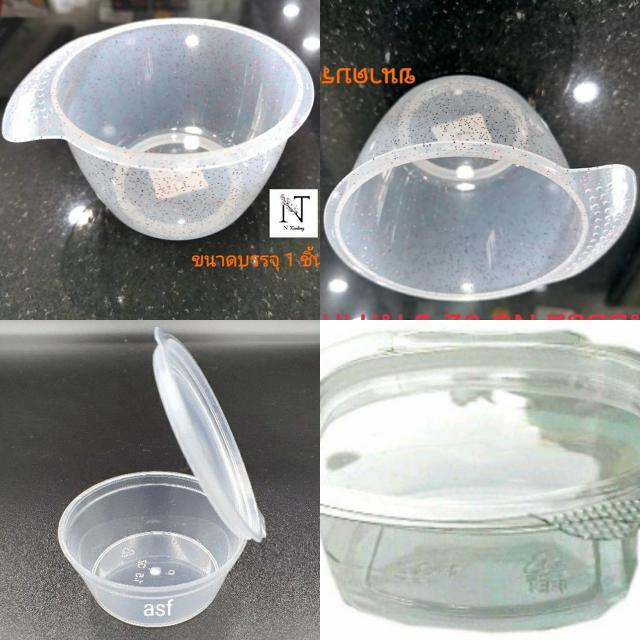Single-Use-Plastic: (321, 330, 640, 629), (325, 75, 635, 299), (4, 19, 314, 240), (59, 329, 265, 626)
